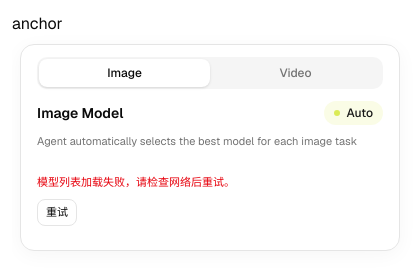
Test case: image model picker › reports a failed load as a failure with a retry
The image size is (417, 268).
Check: the element with test id "image-model-load-error" shows "模型列表加载失败，请检查网络后重试。", box [37, 174, 235, 188]
Click the button "重试" at (57,213), box [37, 199, 77, 226]
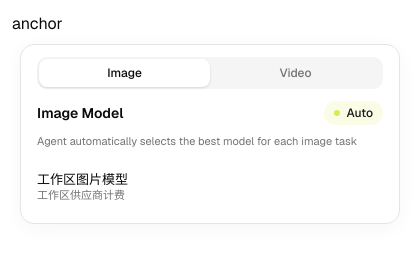
Check: the text "工作区图片模型" is shown, box [37, 170, 128, 188]
